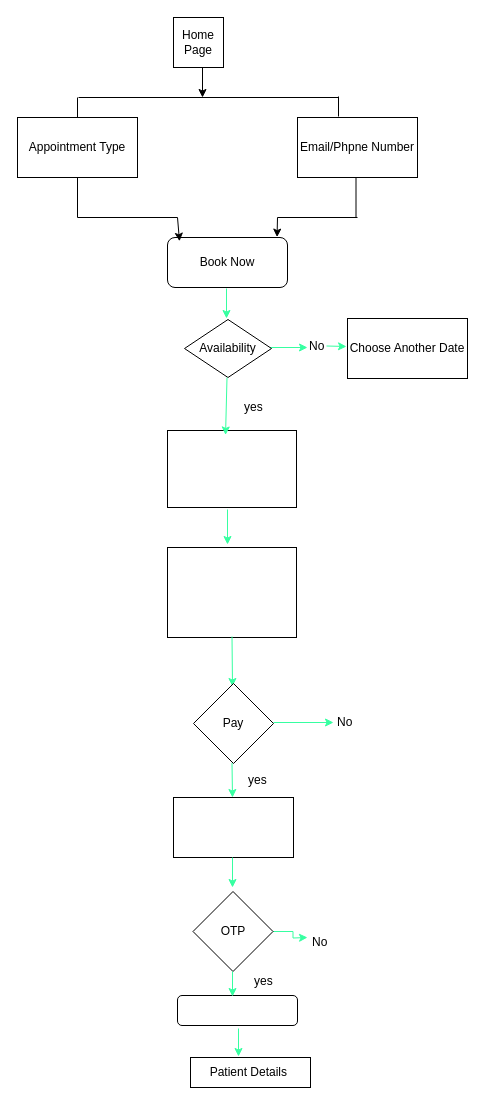
Some shapes in this 485 by 1105 pixel diagram are drawn without their labels. The shapes that lost their labels are listed below. From the top down, each one's centre as x and y in pixels, then its label:
At point 231,469: "Doctor Details-1.Date 2.Time 3.center_id 4.Resource_id".
At point 231,592: "Patients Details 1.Name 2.Sex 3.Email 4.DOB 5.Phone Number".
At point 233,827: "GO Conusltant".
At point 237,1010: "Video".
